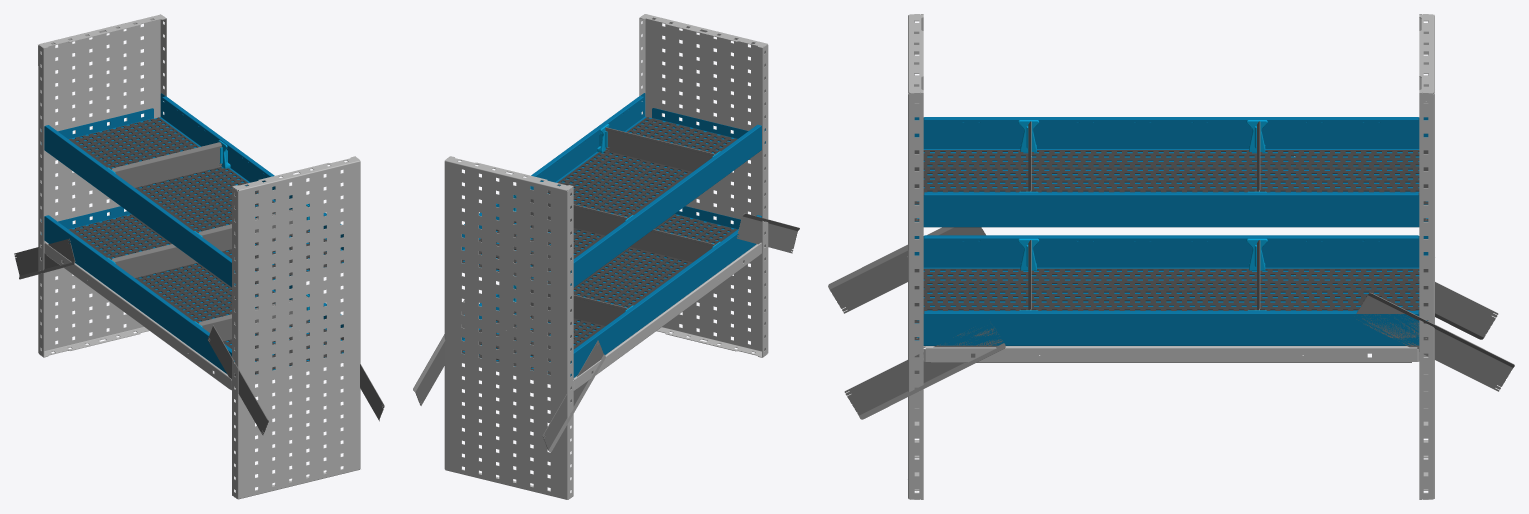
Rendered from KIT01.glb.
3 renders of one model, left to right at view 1: azimuth 30°, elevation 25°; view 2: azimuth 150°, elevation 25°; view 3: azimuth 270°, elevation 25°, orthographic. The views are drawn at different scales.
Visible parts, largest first — view 1: YSI02436-3 (×2), XDS40236KMD02-1/XDS40236-1 (×2), XDS40236KMD02-1/TA20-35-1 (×2), XDS40236KMD02-1/ZDS00236-2 (×2), XHA40100-1, SNAP_FRONTALE-1 (×2), XDS40236KMD02-1/ZDS00236-1 (×2), SNAP_FRONTALE-3; view 2: YSI02436-3 (×2), XDS40236KMD02-1/XDS40236-1 (×2), XDS40236KMD02-1/TA20-35-1 (×2), XDS40236KMD02-1/ZDS00236-1 (×2), XHA40100-1, SNAP_FRONTALE-3 (×2), XDS40236KMD02-1/ZDS00236-2 (×2), SNAP_FRONTALE-1; view 3: XDS40236KMD02-1/XDS40236-1 (×2), XDS40236KMD02-1/TA20-35-1 (×2), YSI02436-3 (×2), XHA40100-1, SNAP_FRONTALE-3 (×2), SNAP_FRONTALE-1 (×2).
Part boxes in pixels (x1=…): YSI02436-3 (×2): x1=38, y1=14, x2=360, y2=499; XDS40236KMD02-1/XDS40236-1 (×2): x1=41, y1=93, x2=343, y2=374; XDS40236KMD02-1/TA20-35-1 (×2): x1=69, y1=117, x2=343, y2=374; XDS40236KMD02-1/ZDS00236-2 (×2): x1=111, y1=142, x2=221, y2=277; XHA40100-1: x1=41, y1=241, x2=235, y2=390; SNAP_FRONTALE-1 (×2): x1=14, y1=238, x2=384, y2=421; XDS40236KMD02-1/ZDS00236-1 (×2): x1=198, y1=206, x2=308, y2=341; SNAP_FRONTALE-3: x1=207, y1=325, x2=268, y2=435; YSI02436-3 (×2): x1=444, y1=14, x2=768, y2=499; XDS40236KMD02-1/XDS40236-1 (×2): x1=462, y1=93, x2=765, y2=377; XDS40236KMD02-1/TA20-35-1 (×2): x1=462, y1=117, x2=737, y2=375; XDS40236KMD02-1/ZDS00236-1 (×2): x1=605, y1=127, x2=714, y2=262; XHA40100-1: x1=573, y1=242, x2=765, y2=390; SNAP_FRONTALE-3 (×2): x1=413, y1=213, x2=799, y2=405; XDS40236KMD02-1/ZDS00236-2 (×2): x1=530, y1=199, x2=627, y2=325; SNAP_FRONTALE-1: x1=542, y1=340, x2=605, y2=451; XDS40236KMD02-1/XDS40236-1 (×2): x1=914, y1=117, x2=1428, y2=345; XDS40236KMD02-1/TA20-35-1 (×2): x1=914, y1=150, x2=1428, y2=340; YSI02436-3 (×2): x1=908, y1=14, x2=1434, y2=499; XHA40100-1: x1=923, y1=346, x2=1428, y2=362; SNAP_FRONTALE-3 (×2): x1=828, y1=227, x2=1514, y2=391; SNAP_FRONTALE-1 (×2): x1=844, y1=282, x2=1498, y2=419.
Bounding box in the file's own units: 0.367 × 0.864 × 1.32.
